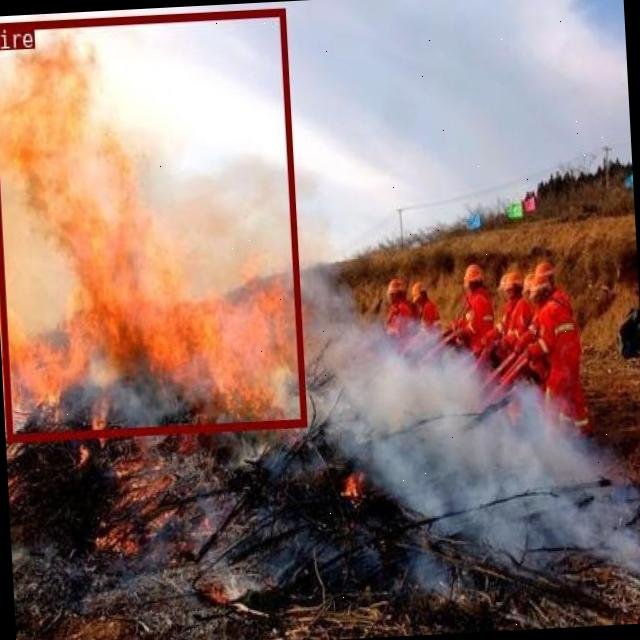fire: (0, 8, 305, 440)
